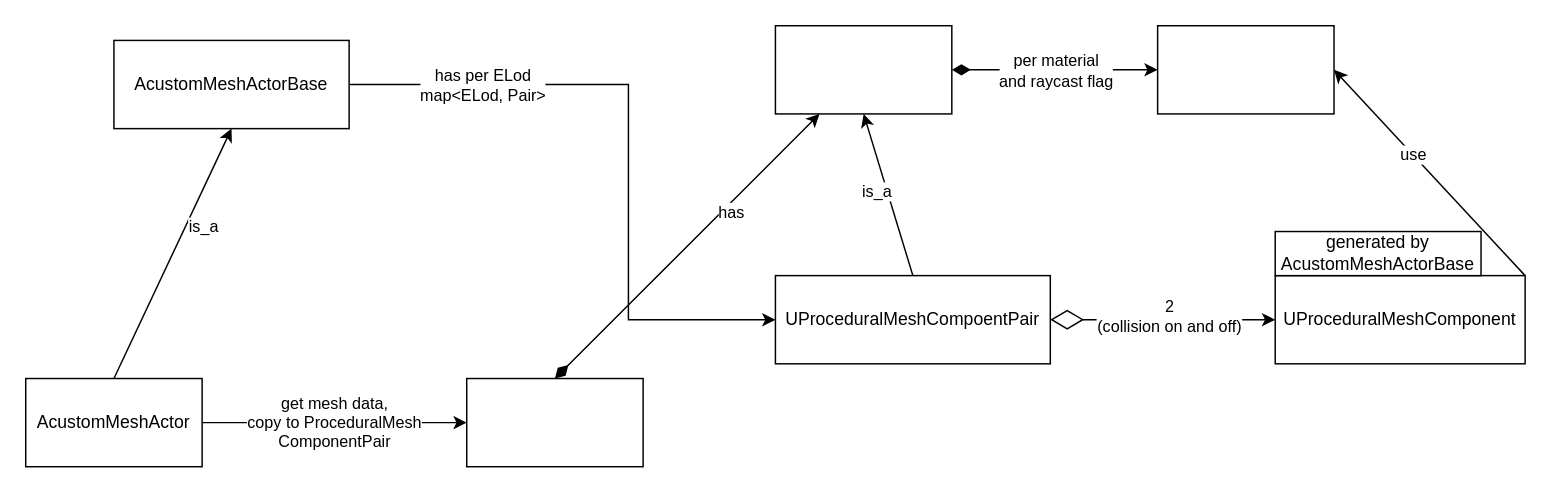
Some shapes in this 1563 by 492 pixel diagram are drawn without their labels. Here are the shapes that lost their labels. From the top down, the centre of each, then its label:
At pixel 863 69: "MeshDataMap".
At pixel 1245 69: "MeshData".
At pixel 554 422: "ChunkParser".
